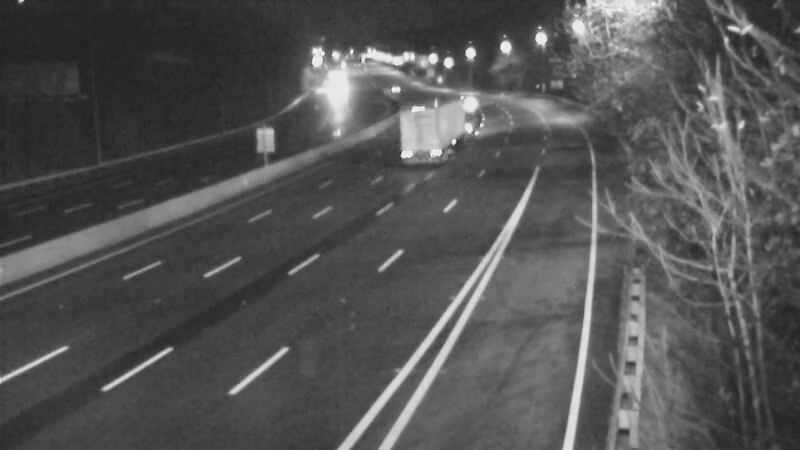vehicle: (373, 65, 423, 115), (442, 75, 492, 125), (400, 98, 450, 148), (311, 70, 361, 120)
